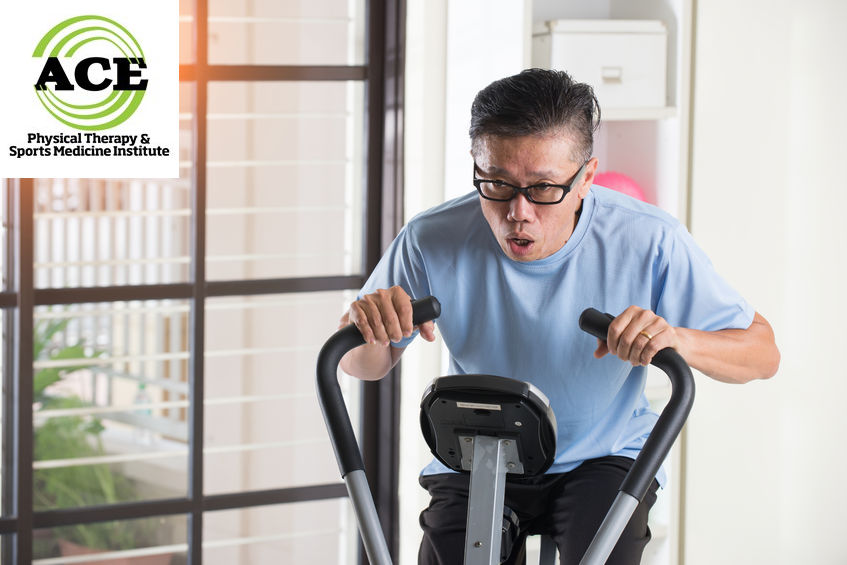gym_bike: (266, 293, 712, 565)
